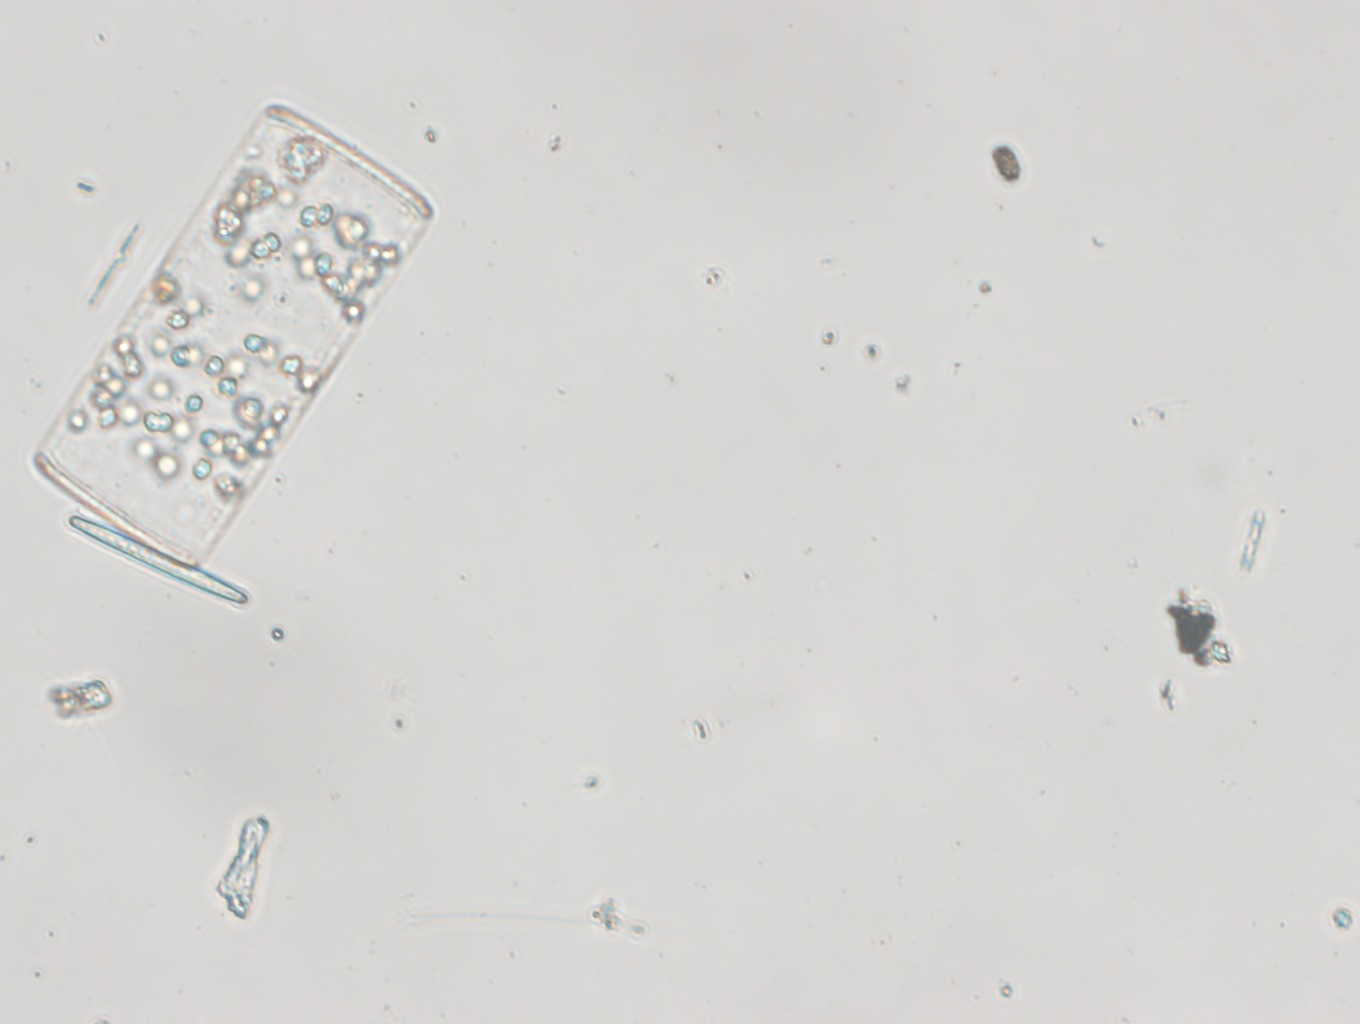guinardia flaccida: (26, 94, 439, 573)
